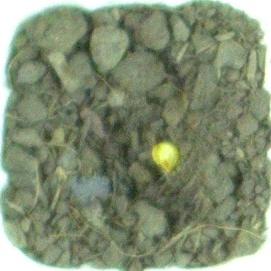chilli seed: (150, 141, 184, 174)
